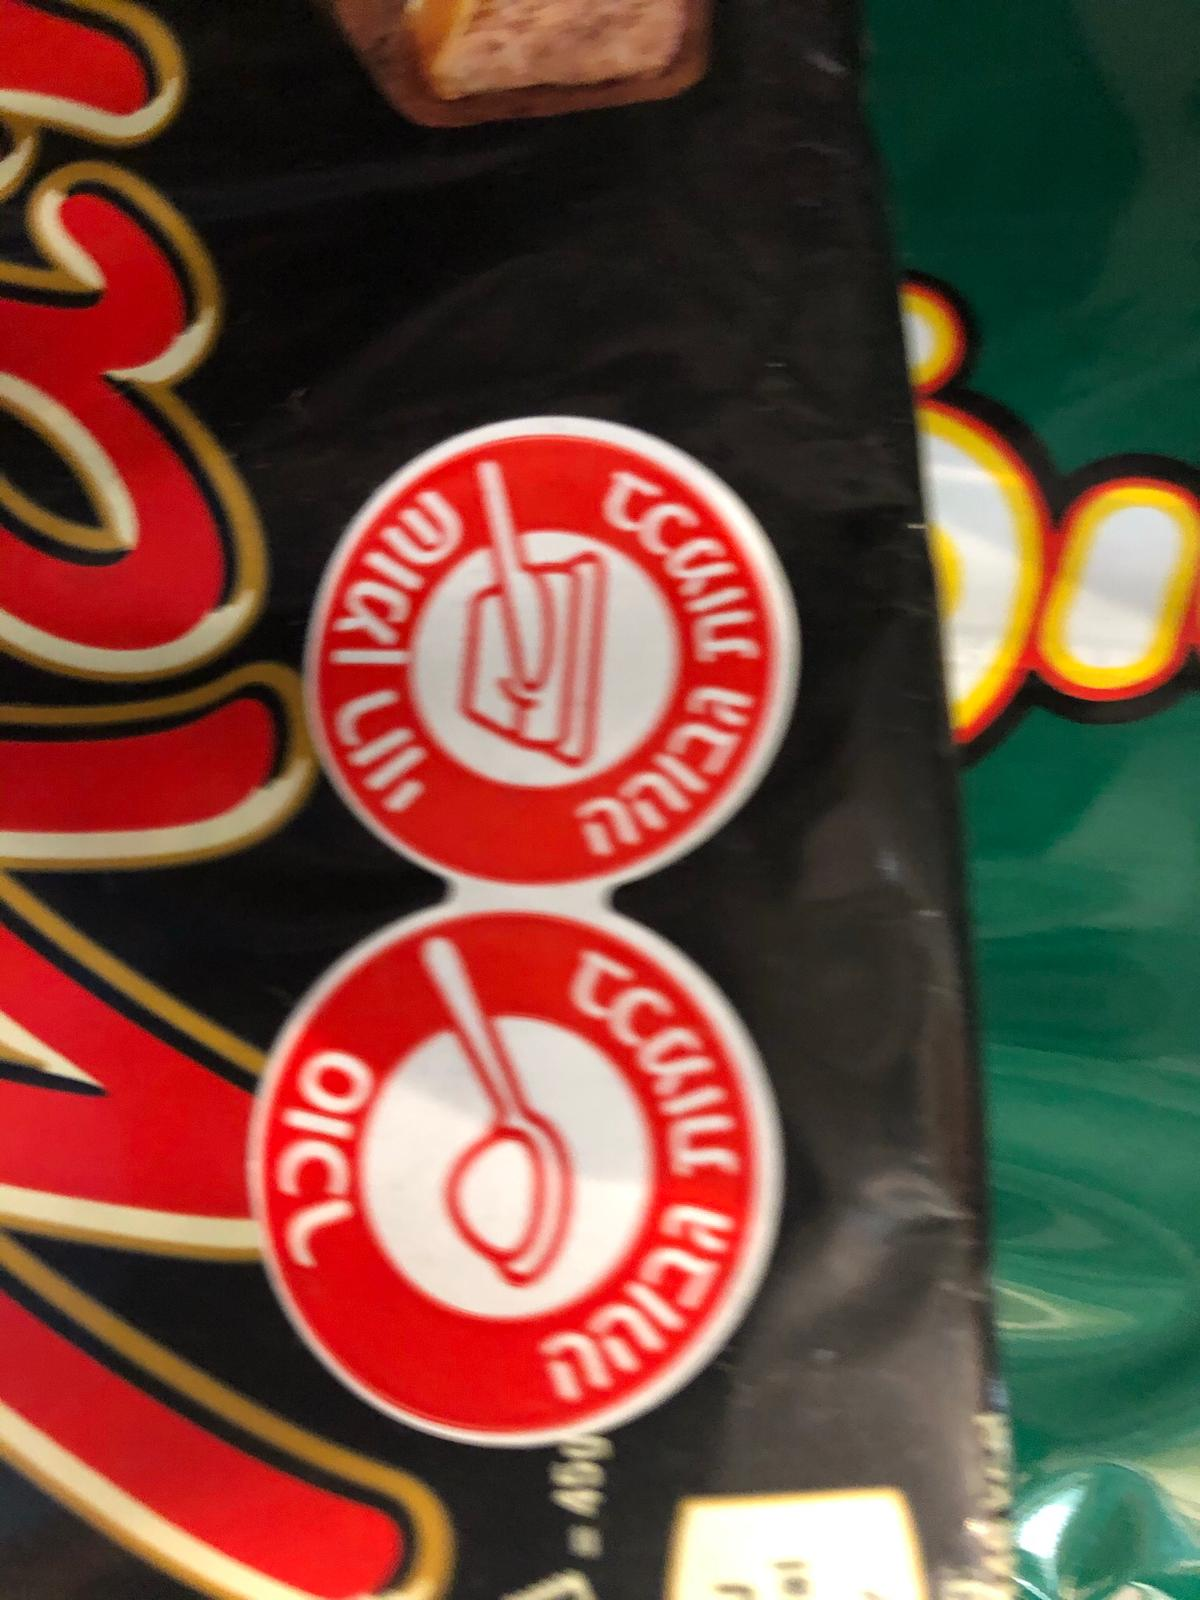fat: (299, 409, 804, 894)
sugar: (242, 903, 787, 1446)
